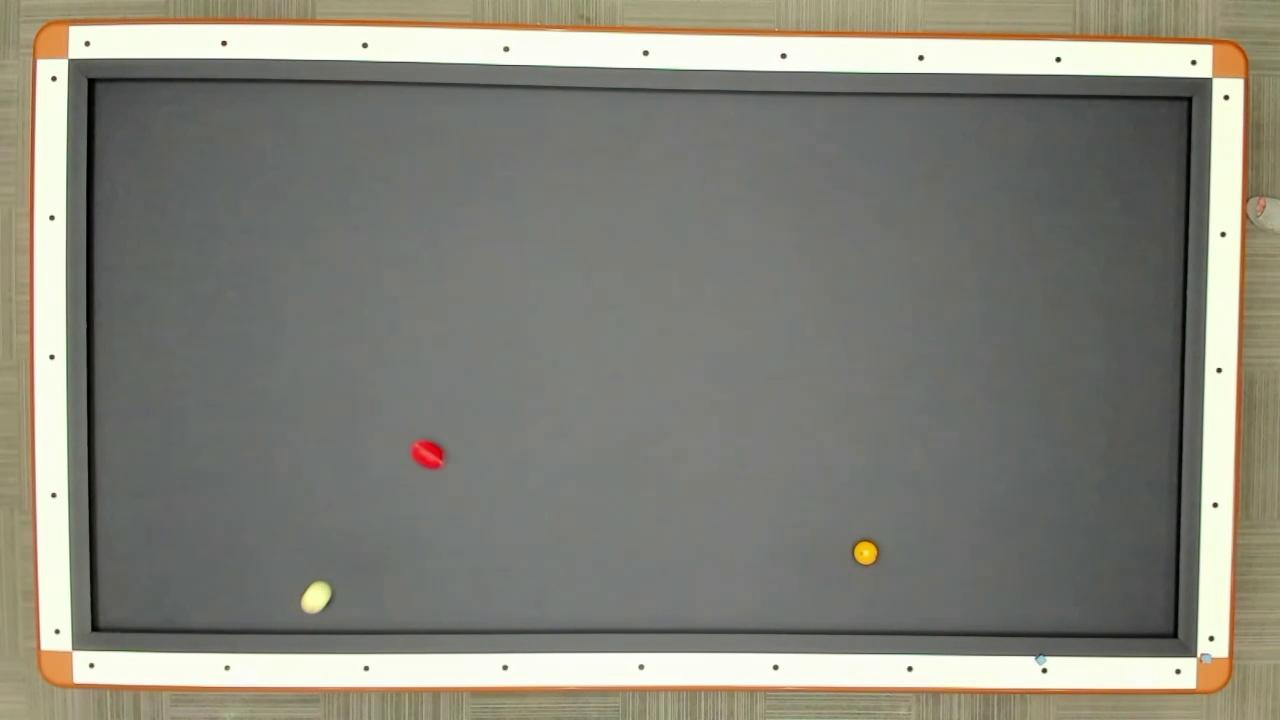Red: (408, 436, 447, 472)
White: (298, 579, 334, 618)
Yellow: (850, 538, 881, 568)
